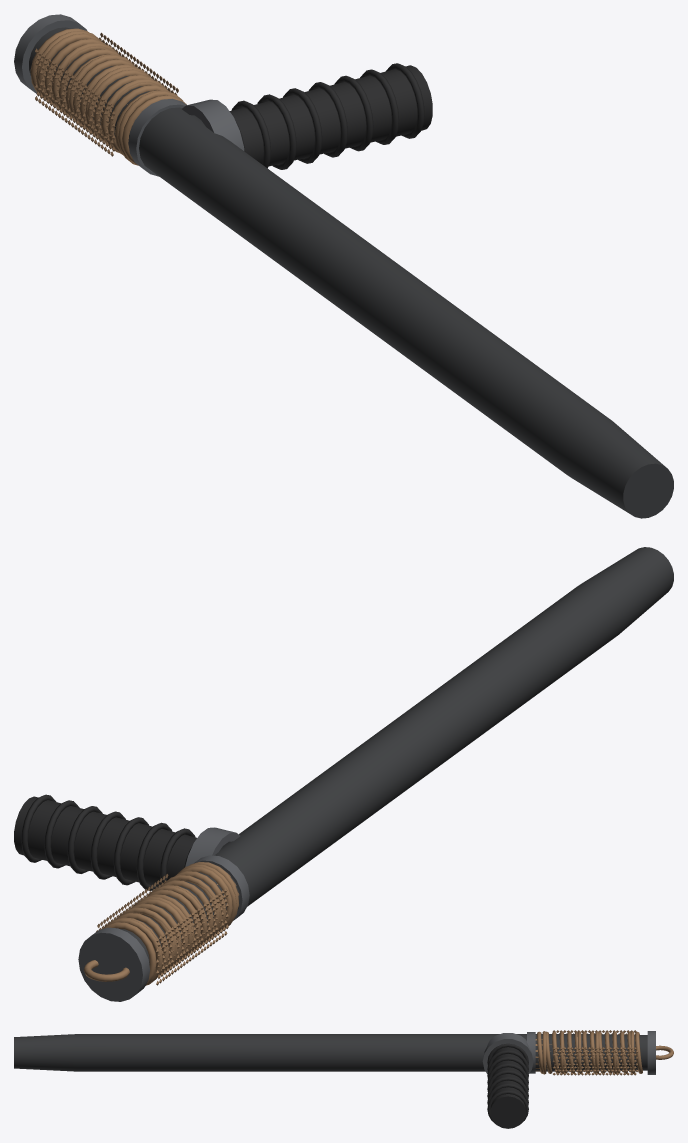
Rendered from mega-weapon-pack-tonfa-baton-2e36960c__33412.glb.
3 renders of one model, top to bottom at view 1: azimuth 30°, elevation 25°; view 2: azimuth 150°, elevation 25°; view 3: azimuth 270°, elevation 25°, orthographic. The views are drawn at different scales.
Visible parts, largest first — view 1: tonfa-baton; view 2: tonfa-baton; view 3: tonfa-baton.
Part boxes in pixels (box(x1,y1,x2,y2)): tonfa-baton: box(14, 14, 673, 518); tonfa-baton: box(14, 547, 673, 1001); tonfa-baton: box(14, 1030, 673, 1128).
Bounding box in the file's own units: 0.155 × 0.0473 × 0.6251.
